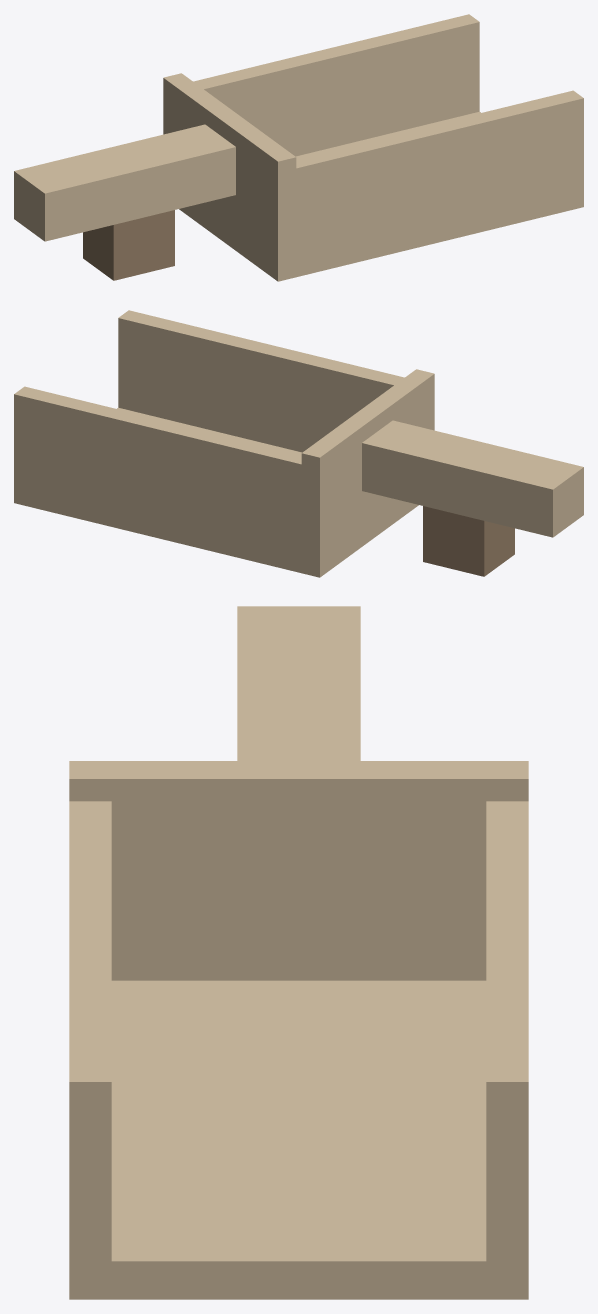
Rendered from prop-grain-scoop-blank.fbx.
3 renders of one model, top to bottom at view 1: azimuth 30°, elevation 25°; view 2: azimuth 150°, elevation 25°; view 3: azimuth 270°, elevation 25°, orthographic. The views are drawn at different scales.
Visible parts, largest first — view 1: prop-grain-scoop-blank; view 2: prop-grain-scoop-blank; view 3: prop-grain-scoop-blank.
Part boxes in pixels (bbox=[...]): prop-grain-scoop-blank: bbox=[14, 14, 583, 281]; prop-grain-scoop-blank: bbox=[14, 310, 583, 577]; prop-grain-scoop-blank: bbox=[69, 606, 528, 1299].
Bounding box in the file's own units: 32.5 × 7.5 × 13.
